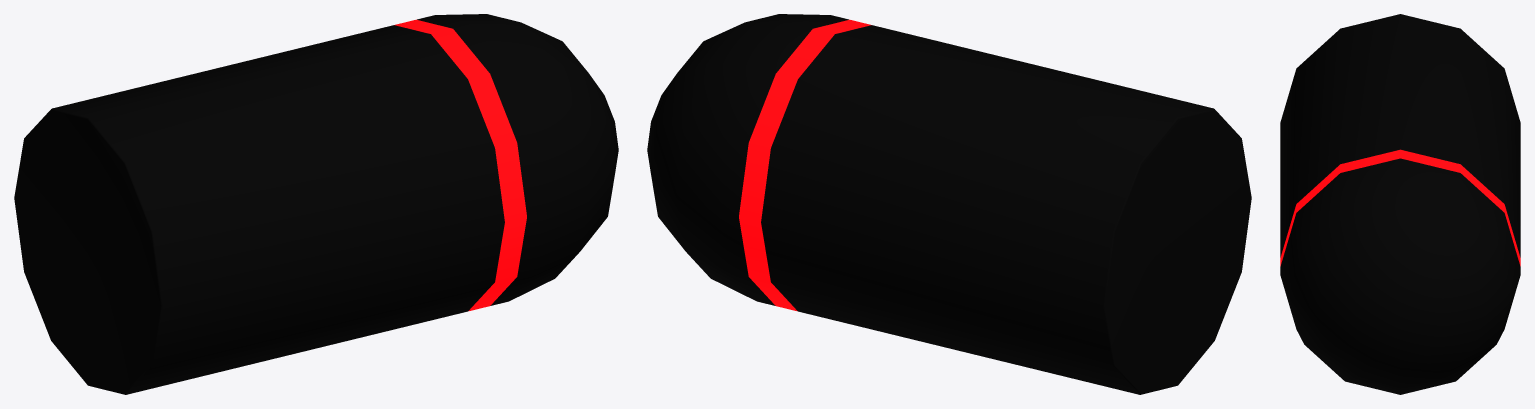
File: Projectile.fbx
3 views of the same model, side by side, from view 1: azimuth 30°, elevation 25°; view 2: azimuth 150°, elevation 25°; view 3: azimuth 270°, elevation 25° (orthographic). The views are drawn at different scales.
Visible parts, largest first — view 1: Projectile; view 2: Projectile; view 3: Projectile.
Boxes of the visible parts, bbox=[...] form: Projectile: bbox=[14, 14, 618, 394]; Projectile: bbox=[647, 14, 1251, 394]; Projectile: bbox=[1280, 14, 1520, 394].
Bounding box in the file's own units: 40 × 20 × 20.
